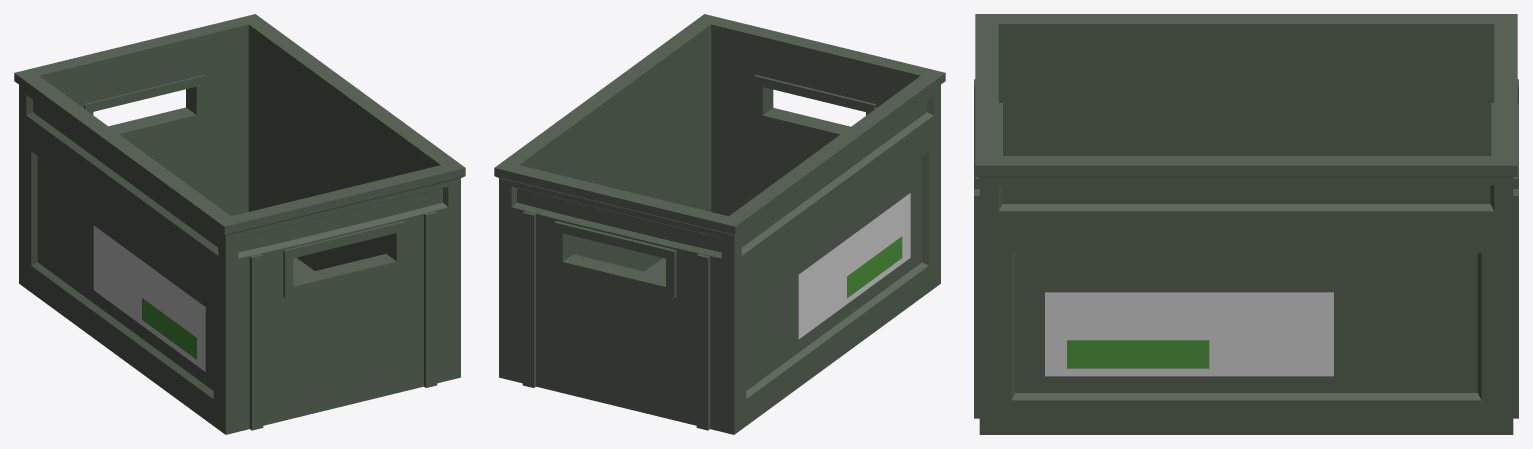
The model's file is SM_crate_1.gltf.
3 views of the same model, side by side, from view 1: azimuth 30°, elevation 25°; view 2: azimuth 150°, elevation 25°; view 3: azimuth 270°, elevation 25° (orthographic). The views are drawn at different scales.
Parts seen in each view (by area): view 1: SM_crate_1; view 2: SM_crate_1; view 3: SM_crate_1.
Boxes of the visible parts, x1,y1,x2,y2 form: SM_crate_1: [14, 14, 465, 434]; SM_crate_1: [494, 14, 945, 434]; SM_crate_1: [974, 14, 1518, 434].
Bounding box in the file's own units: 0.4607 × 0.3835 × 0.6985.
1 material, 1 textured.
